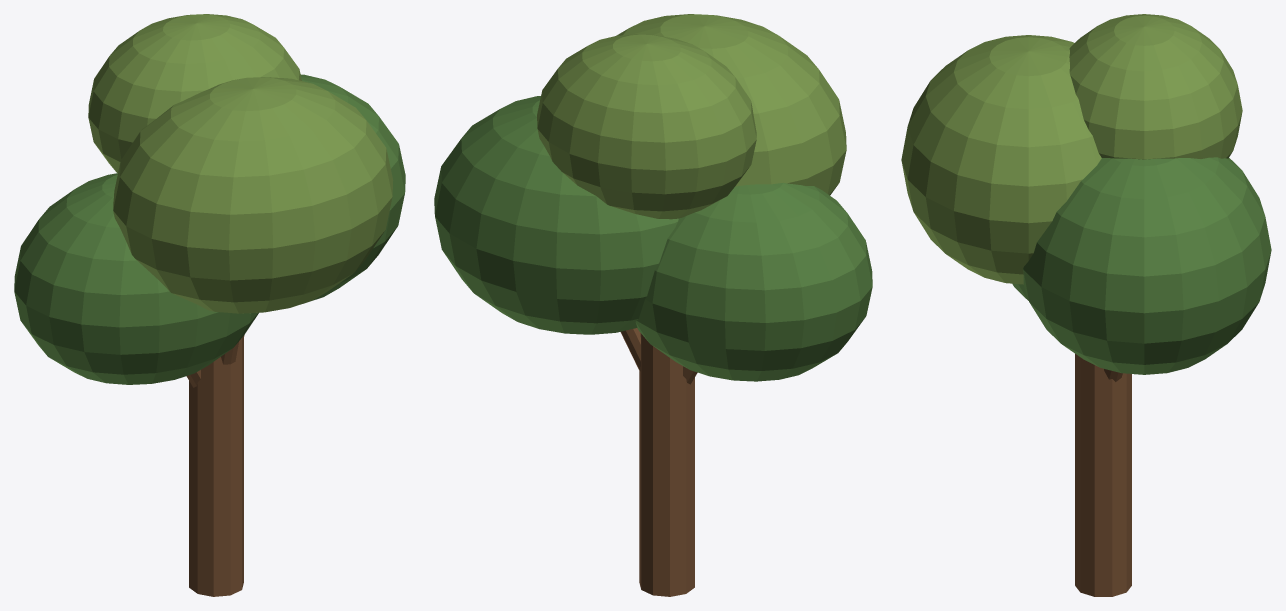
Rendered from tree-ultra.glb.
3 renders of one model, left to right at view 1: azimuth 30°, elevation 25°; view 2: azimuth 150°, elevation 25°; view 3: azimuth 270°, elevation 25°, orthographic. The views are drawn at different scales.
Parts seen in each view (by area): view 1: tree; view 2: tree; view 3: tree.
Boxes of the visible parts, x1,y1,x2,y2 form: tree: (14,14,405,596); tree: (434,14,872,596); tree: (901,14,1271,596).
Size of the model in its own units: 3.35 by 4.53 by 2.72.
